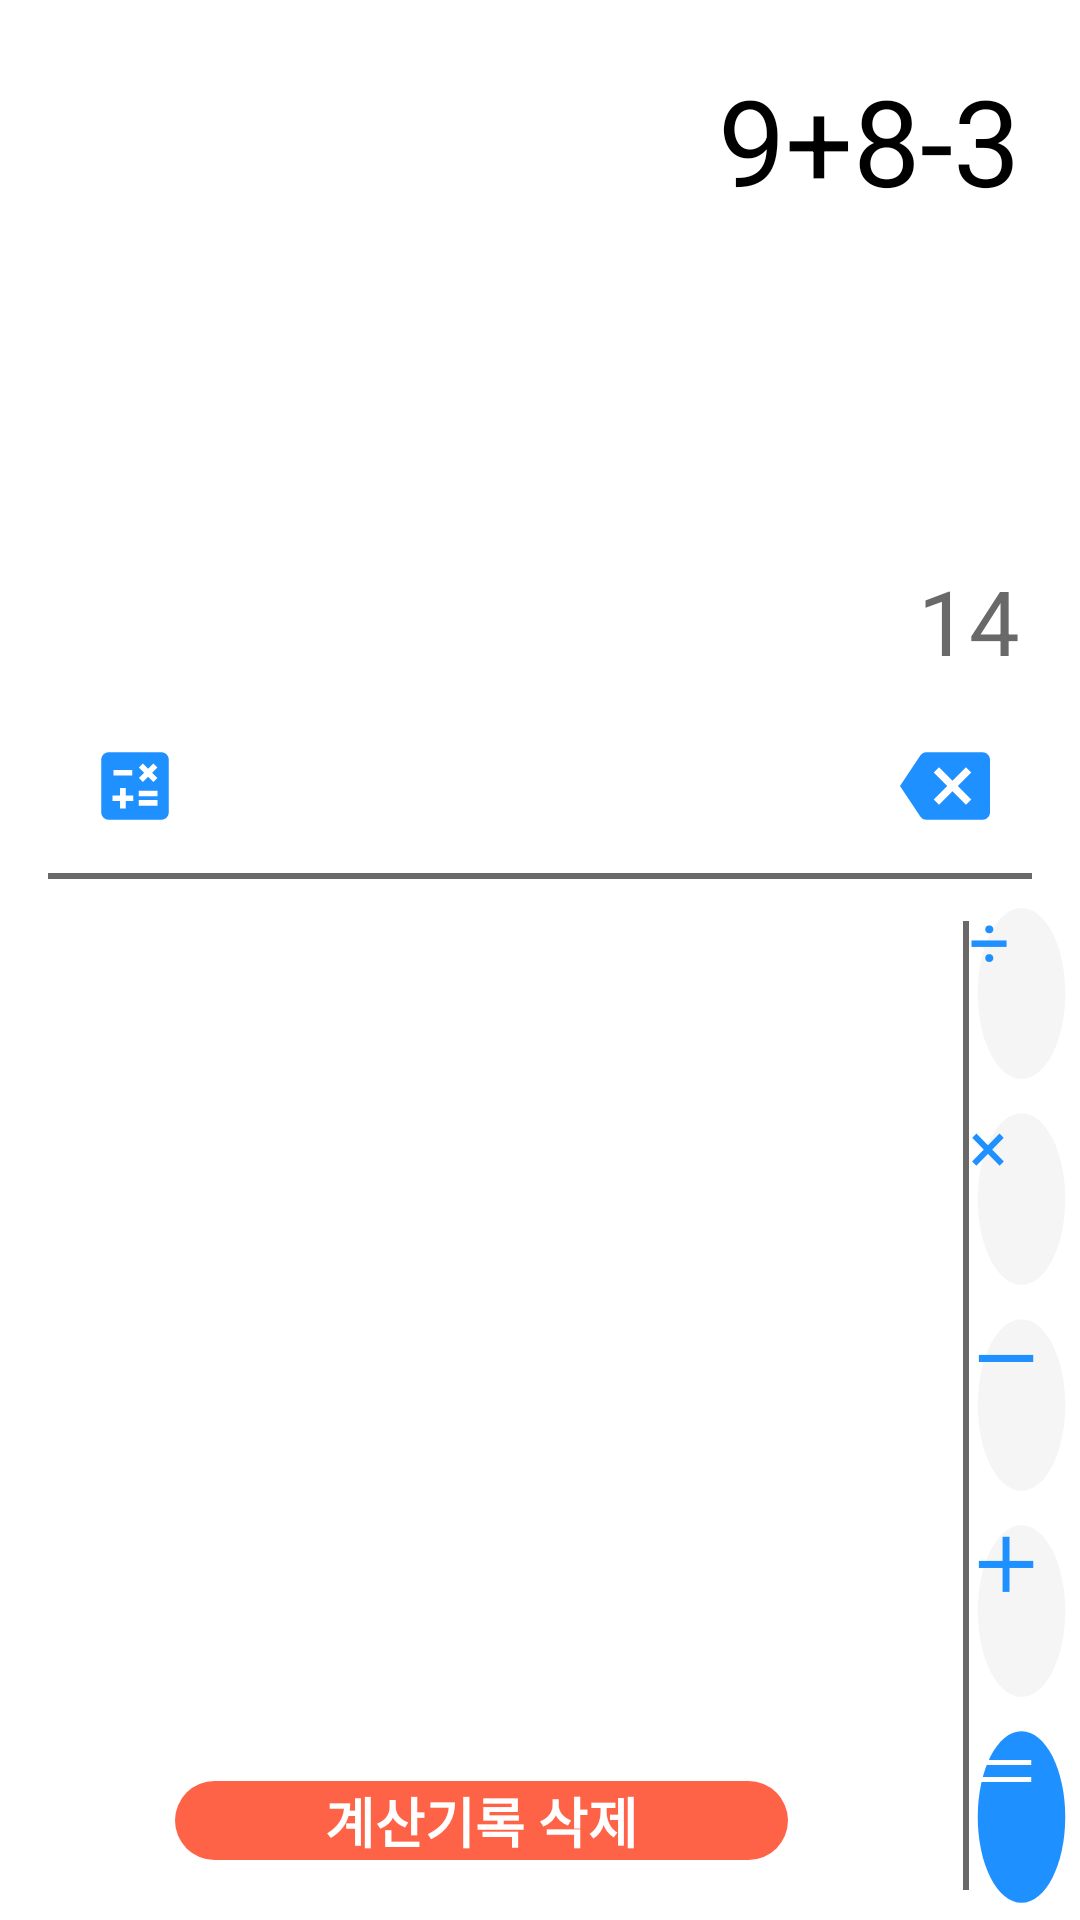

Screen size 1080x1920. Icon name, then its box in pixels as (x1, y1, x2, y2):
backspace: (900, 752, 990, 820)
calculate: (101, 752, 169, 820)
